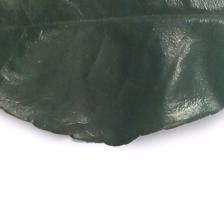healthy: (6, 2, 207, 123)
